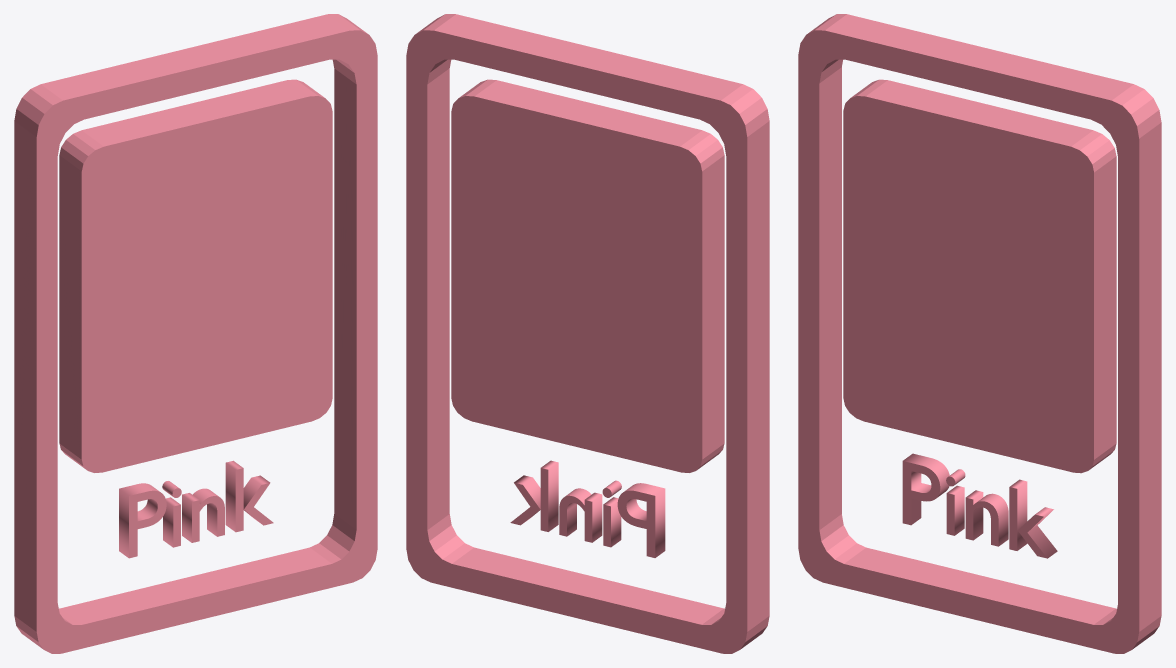
Rendered from Color_Pink.gltf.
3 renders of one model, left to right at view 1: azimuth 30°, elevation 25°; view 2: azimuth 150°, elevation 25°; view 3: azimuth 330°, elevation 25°, orthographic.
Parts seen in each view (by area): view 1: Text.002; view 2: Text.002; view 3: Text.002.
Part boxes in pixels (<box>): Text.002: <box>14,14,377,653</box>; Text.002: <box>406,14,769,653</box>; Text.002: <box>798,14,1161,653</box>.
Bounding box in the file's own units: 1 × 1.56 × 0.1143.
